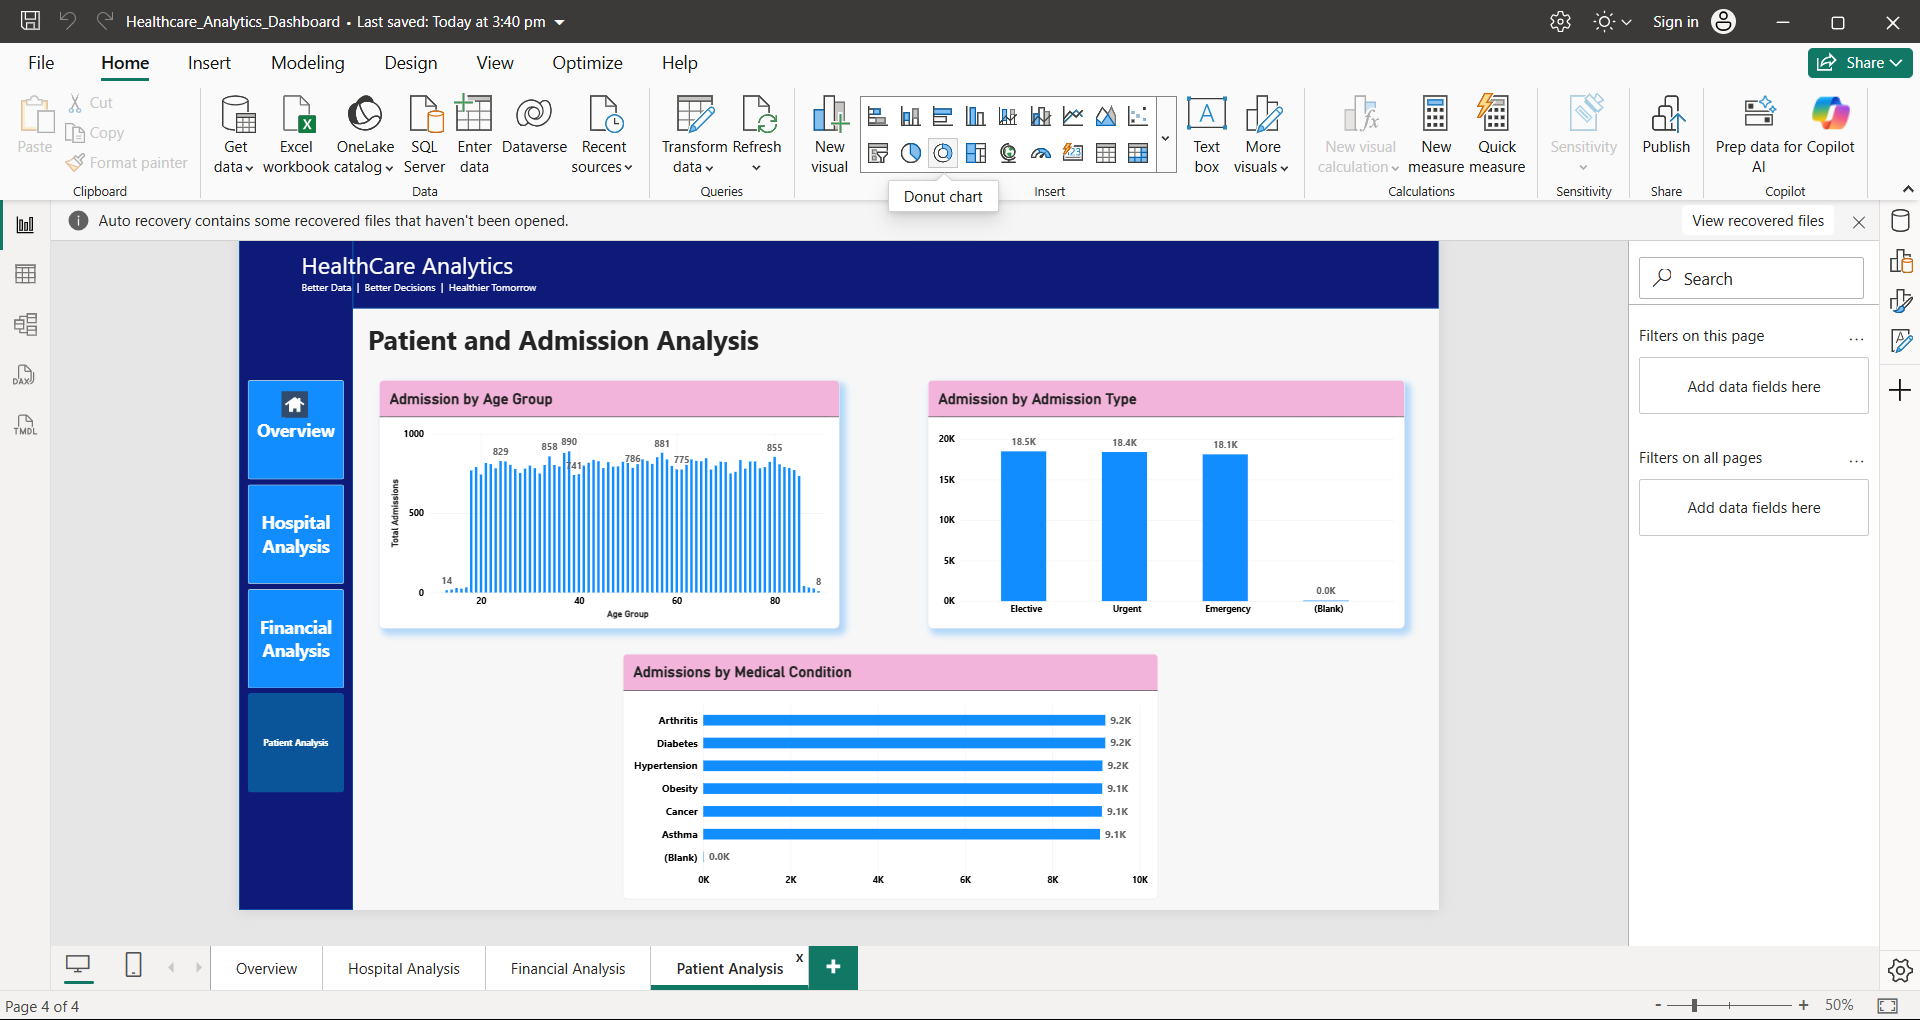

The page's visual inventory and layout, read from the dashboard file:
{"tool":"powerbi","page":{"name":"Patient Analysis","canvas":[1920,1080],"ordinal":3},"visuals":[{"type":"shape","box":[0,0,182.5,1080],"z":0},{"type":"shape","box":[182.5,0,1737.5,117.5],"z":4000},{"type":"textbox","box":[100,22.5,387.5,50],"z":5000},{"type":"textbox","box":[100,72.5,412.5,45],"z":6000},{"type":"clusteredColumnChart","title":"Admission by Age Group","fields":{"Category":["fact_Data.Age"],"Y":["dim_AdmissionType.Total Admissions"]},"box":[224.3,232.3,736.8,397.8],"z":7000},{"type":"textbox","box":[205.6,138.8,640.7,69.4],"z":8000},{"type":"clusteredColumnChart","title":"Admission by Admission Type","fields":{"Category":["dim_AdmissionType.Admission Type"],"Y":["dim_AdmissionType.Total Admissions"]},"box":[1102.6,232.3,763.5,397.8],"z":9000},{"type":"clusteredBarChart","title":"Admissions by Medical Condition","fields":{"Category":["dim_MedicalCondition.Medical Condition"],"Y":["dim_AdmissionType.Total Admissions"]},"box":[614,670.1,857,392.4],"z":10000},{"type":"pageNavigator","box":[13.3,232.3,154.8,662.1],"z":12001},{"type":"image","box":[40,250.9,98.8,42.7],"z":12002}]}

Visuals, with their boxes on the page's 1920x1080 design canvas (x1, y1, x2, y2). These are canvas units, not pixel positions in the 1920x1020 screenshot, which may show the page scaled, cropped or inside an application window:
shape: rect(0, 0, 182, 1080)
shape: rect(182, 0, 1920, 118)
textbox: rect(100, 22, 488, 72)
textbox: rect(100, 72, 512, 118)
"Admission by Age Group" clusteredColumnChart: rect(224, 232, 961, 630)
textbox: rect(206, 139, 846, 208)
"Admission by Admission Type" clusteredColumnChart: rect(1103, 232, 1866, 630)
"Admissions by Medical Condition" clusteredBarChart: rect(614, 670, 1471, 1062)
pageNavigator: rect(13, 232, 168, 894)
image: rect(40, 251, 139, 294)
